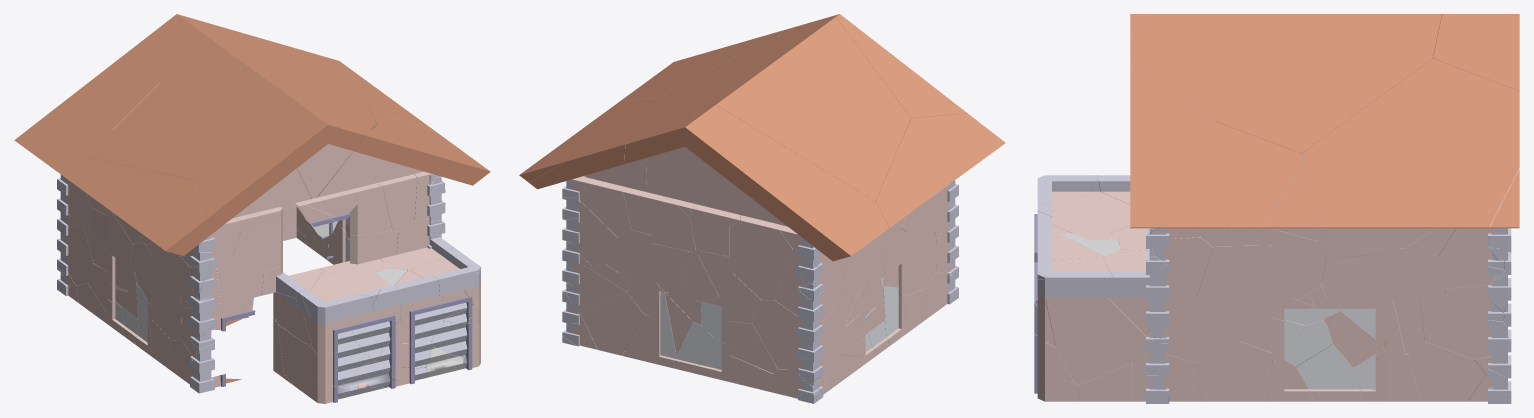
The model's file is fractured_house.glb.
3 views of the same model, side by side, from view 1: azimuth 30°, elevation 25°; view 2: azimuth 150°, elevation 25°; view 3: azimuth 270°, elevation 25° (orthographic). The views are drawn at different scales.
Parts seen in each view (by area): view 1: roof_cell.002, roof_cell.004, roof_cell.003, roof_cell, roof_cell.001, roof_cell.005, roof_cell.007, wall.006_cell.005, roof_flatCorner.001_cell.007, wall.016_cell.007, wall.018_cell.001, wall.006_cell.002 (+52 smaller); view 2: roof_cell.002, roof_cell.004, roof_cell.003, roof_cell.005, wall.020_cell.006, roof_cell, wall_cell.003, wall.001_cell, wall.007_cell.003, roof_cell.007, wall.019_cell.001, wall.019_cell.008 (+43 smaller); view 3: roof_cell.002, roof_cell.005, roof_cell.007, wall.017_cell, roof_cell.004, roof_cell.001, wall.005_cell.005, wall.005_cell, wall.002_cell.008, wall.013_cell.004, wall.002_cell.003, roof_flatCorner.001_cell.007 (+48 smaller).
Part boxes in pixels (x1=…): roof_cell.002: x1=86, y1=36, x2=376, y2=198; roof_cell.004: x1=14, y1=14, x2=243, y2=167; roof_cell.003: x1=52, y1=157, x2=207, y2=256; roof_cell: x1=195, y1=122, x2=357, y2=236; roof_cell.001: x1=317, y1=124, x2=446, y2=197; roof_cell.005: x1=235, y1=31, x2=416, y2=117; roof_cell.007: x1=368, y1=107, x2=490, y2=185; wall.006_cell.005: x1=233, y1=214, x2=282, y2=273; roof_flatCorner.001_cell.007: x1=410, y1=247, x2=480, y2=295; wall.016_cell.007: x1=278, y1=325, x2=324, y2=392; wall.018_cell.001: x1=350, y1=183, x2=392, y2=235; wall.006_cell.002: x1=217, y1=257, x2=263, y2=305; roof_cell.002: x1=663, y1=17, x2=910, y2=201; roof_cell.004: x1=624, y1=105, x2=888, y2=261; roof_cell.003: x1=875, y1=113, x2=1005, y2=227; roof_cell.005: x1=529, y1=95, x2=684, y2=191; wall.020_cell.006: x1=729, y1=215, x2=792, y2=300; roof_cell: x1=818, y1=14, x2=966, y2=117; wall_cell.003: x1=580, y1=292, x2=643, y2=355; wall.001_cell: x1=752, y1=306, x2=805, y2=369; wall.007_cell.003: x1=572, y1=176, x2=630, y2=237; roof_cell.007: x1=621, y1=49, x2=721, y2=100; wall.019_cell.001: x1=649, y1=194, x2=695, y2=252; wall.019_cell.008: x1=690, y1=205, x2=736, y2=256; roof_cell.002: x1=1130, y1=14, x2=1441, y2=154; roof_cell.005: x1=1302, y1=58, x2=1519, y2=228; roof_cell.007: x1=1130, y1=121, x2=1302, y2=228; wall.017_cell: x1=1045, y1=298, x2=1145, y2=384; roof_cell.004: x1=1432, y1=14, x2=1519, y2=90; roof_cell.001: x1=1130, y1=63, x2=1215, y2=169; wall.005_cell.005: x1=1166, y1=298, x2=1240, y2=362; wall.005_cell: x1=1196, y1=340, x2=1272, y2=401; wall.002_cell.008: x1=1420, y1=298, x2=1491, y2=359; wall.013_cell.004: x1=1196, y1=245, x2=1272, y2=298; wall.002_cell.003: x1=1408, y1=341, x2=1485, y2=401; roof_flatCorner.001_cell.007: x1=1037, y1=249, x2=1116, y2=298.
Size of the model in its own units: 4.23 by 3.03 by 4.26.
